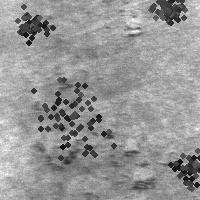rolled-in_scale: (17, 62, 121, 166), (35, 129, 174, 188), (163, 139, 200, 191), (8, 2, 50, 44), (146, 0, 188, 28), (117, 12, 146, 42)
